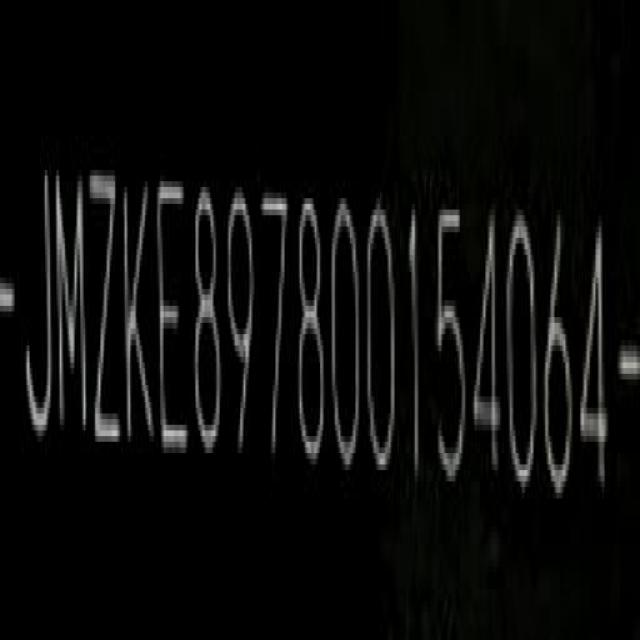0: (508, 207, 539, 502), (330, 195, 361, 482), (368, 198, 398, 487)
1: (404, 199, 429, 491)
4: (581, 213, 613, 510), (472, 200, 501, 499)
5: (435, 196, 466, 495)
6: (545, 213, 576, 510)
7: (260, 183, 290, 472)
8: (194, 182, 221, 466), (298, 193, 325, 468)
9: (225, 187, 255, 469)
E: (156, 170, 188, 459)
J: (25, 161, 54, 451)
K: (125, 168, 156, 456)
M: (54, 167, 87, 453)
Z: (88, 166, 122, 447)
